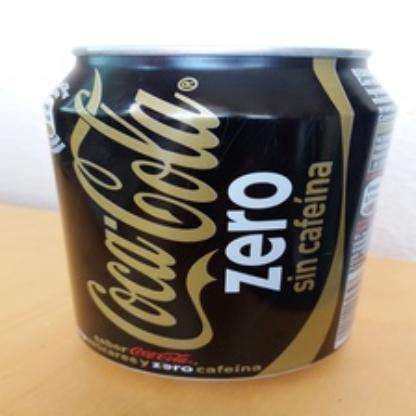Can: (44, 47, 396, 380)
